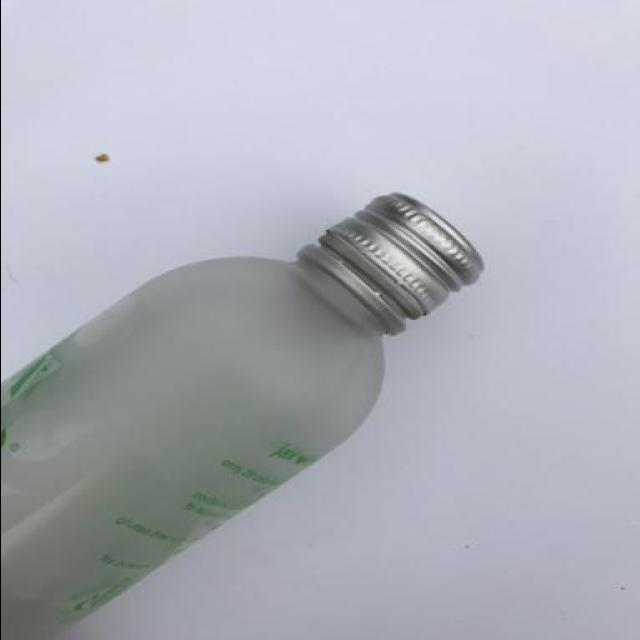Glass Bottle: (11, 190, 487, 636)
